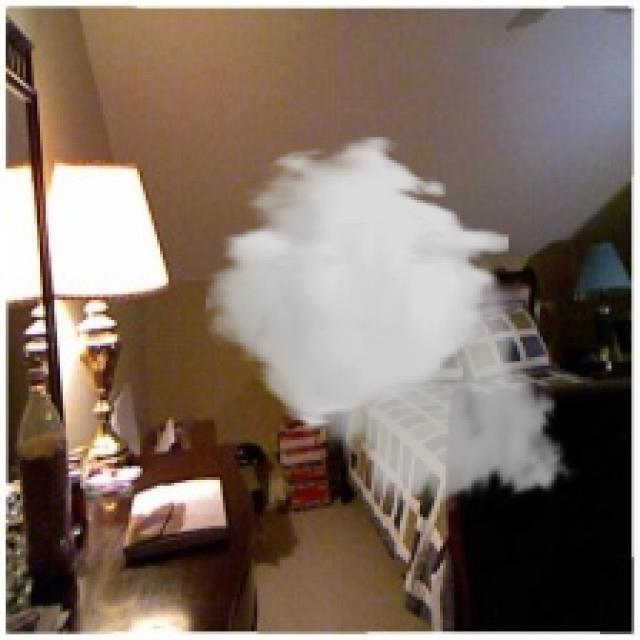Smoke: (205, 134, 580, 517)
